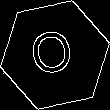O_S: (30, 25, 80, 85)
